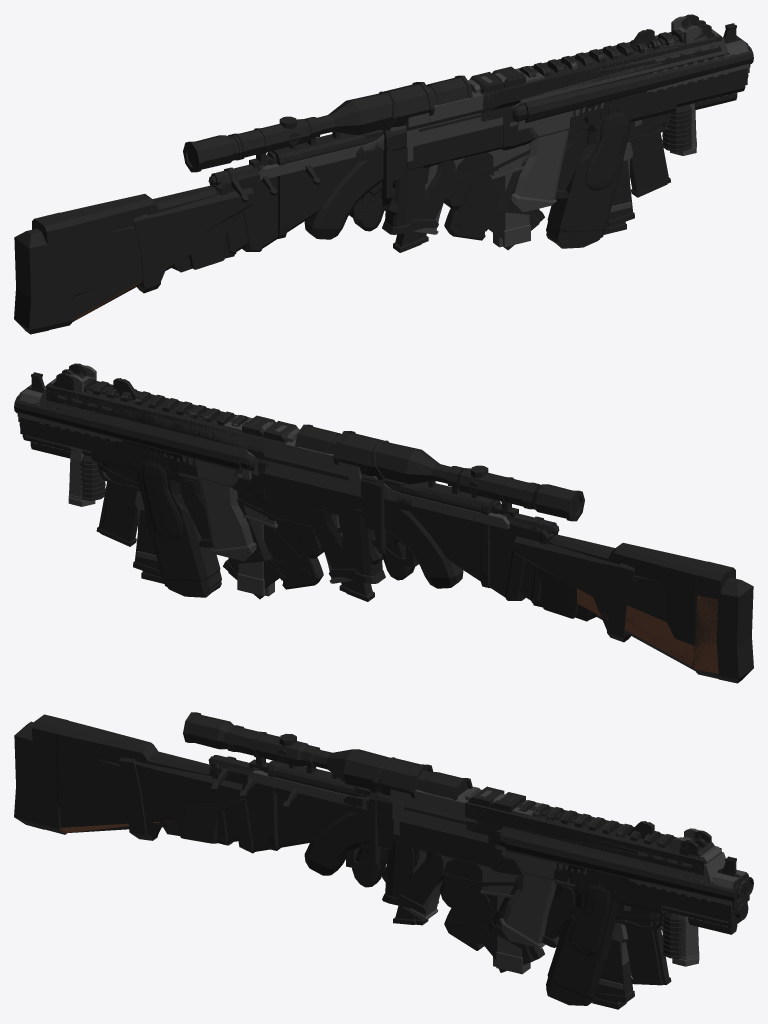
The model's file is Guns.fbx.
3 views of the same model, one above another, from view 1: azimuth 30°, elevation 25°; view 2: azimuth 150°, elevation 25°; view 3: azimuth 330°, elevation 25° (orthographic).
Visible parts, largest first — view 1: SniperRifle_2.001, SniperRifle_1.001, SubmachineGun_5.001, Pistol_4.001, SniperRifle_3.001, SniperRifle_4.001, SubmachineGun_1.001, AssaultRifle2_2.001, Pistol_6.001, AssaultRifle2_3.001, SubmachineGun_2.001, Shotgun_SawedOff.001 (+10 smaller); view 2: SniperRifle_2.001, SubmachineGun_5.001, Pistol_4.001, SniperRifle_3.001, SniperRifle_4.001, AssaultRifle2_2.001, SniperRifle_6.001, SubmachineGun_1.001, AssaultRifle2_3.001, Shotgun_SawedOff.001, Pistol_6.001, SubmachineGun_2.001 (+10 smaller); view 3: SniperRifle_1.001, SubmachineGun_1.001, SniperRifle_2.001, SubmachineGun_5.001, SniperRifle_3.001, Pistol_4.001, SniperRifle_4.001, AssaultRifle2_2.001, Shotgun_1.001, Pistol_6.001, Shotgun_SawedOff.001, AssaultRifle2_3.001 (+10 smaller).
Boxes of the visible parts, x1=… form: SniperRifle_2.001: x1=14, y1=91, x2=398, y2=334; SniperRifle_1.001: x1=40, y1=136, x2=295, y2=329; SubmachineGun_5.001: x1=258, y1=16, x2=715, y2=247; Pistol_4.001: x1=546, y1=68, x2=747, y2=248; SniperRifle_3.001: x1=32, y1=84, x2=440, y2=301; SniperRifle_4.001: x1=133, y1=75, x2=472, y2=293; SubmachineGun_1.001: x1=469, y1=24, x2=722, y2=227; AssaultRifle2_2.001: x1=268, y1=29, x2=654, y2=250; Pistol_6.001: x1=511, y1=37, x2=748, y2=212; AssaultRifle2_3.001: x1=382, y1=30, x2=650, y2=234; SubmachineGun_2.001: x1=349, y1=14, x2=721, y2=234; Shotgun_SawedOff.001: x1=384, y1=46, x2=753, y2=216; SniperRifle_2.001: x1=369, y1=440, x2=753, y2=683; SubmachineGun_5.001: x1=58, y1=365, x2=509, y2=596; Pistol_4.001: x1=20, y1=417, x2=221, y2=597; SniperRifle_3.001: x1=327, y1=433, x2=735, y2=648; SniperRifle_4.001: x1=295, y1=424, x2=634, y2=642; AssaultRifle2_2.001: x1=113, y1=378, x2=499, y2=599; SniperRifle_6.001: x1=333, y1=431, x2=718, y2=673; SubmachineGun_1.001: x1=44, y1=373, x2=298, y2=576; AssaultRifle2_3.001: x1=117, y1=379, x2=385, y2=583; Shotgun_SawedOff.001: x1=14, y1=395, x2=383, y2=565; Pistol_6.001: x1=19, y1=385, x2=256, y2=561; SubmachineGun_2.001: x1=46, y1=363, x2=418, y2=583; SniperRifle_1.001: x1=25, y1=725, x2=747, y2=897; SubmachineGun_1.001: x1=465, y1=786, x2=745, y2=1002; SniperRifle_2.001: x1=14, y1=712, x2=746, y2=898; SubmachineGun_5.001: x1=247, y1=770, x2=745, y2=974; SniperRifle_3.001: x1=31, y1=714, x2=746, y2=886; Pistol_4.001: x1=546, y1=863, x2=747, y2=1005; SniperRifle_4.001: x1=119, y1=731, x2=472, y2=840; AssaultRifle2_2.001: x1=267, y1=760, x2=747, y2=972; Shotgun_1.001: x1=234, y1=798, x2=748, y2=919; Pistol_6.001: x1=500, y1=847, x2=746, y2=947; Shotgun_SawedOff.001: x1=381, y1=831, x2=753, y2=903; AssaultRifle2_3.001: x1=377, y1=796, x2=647, y2=932.
Bounding box in the file's own units: 741 × 194 × 51.61.
